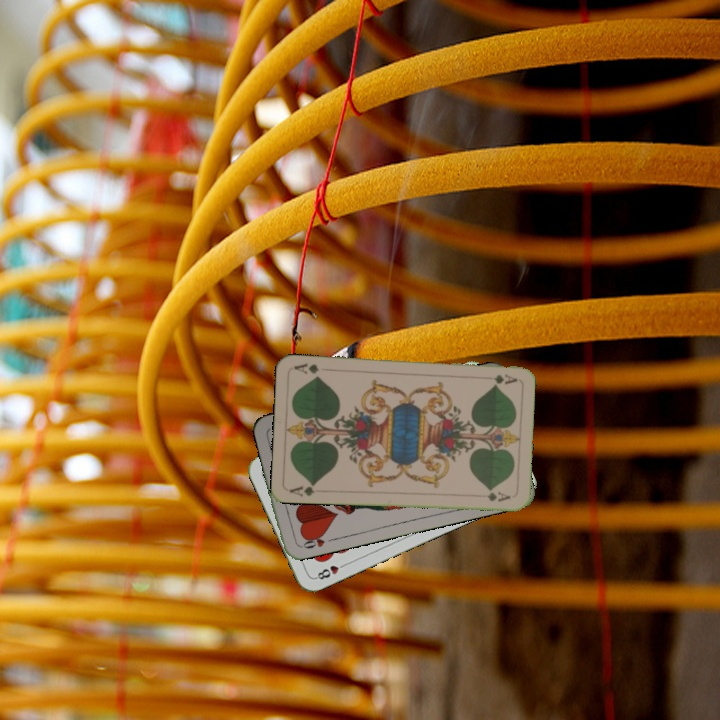GA: (286, 479, 318, 499), (490, 370, 519, 386)
H8: (311, 559, 349, 582)
HO: (296, 529, 336, 551)
